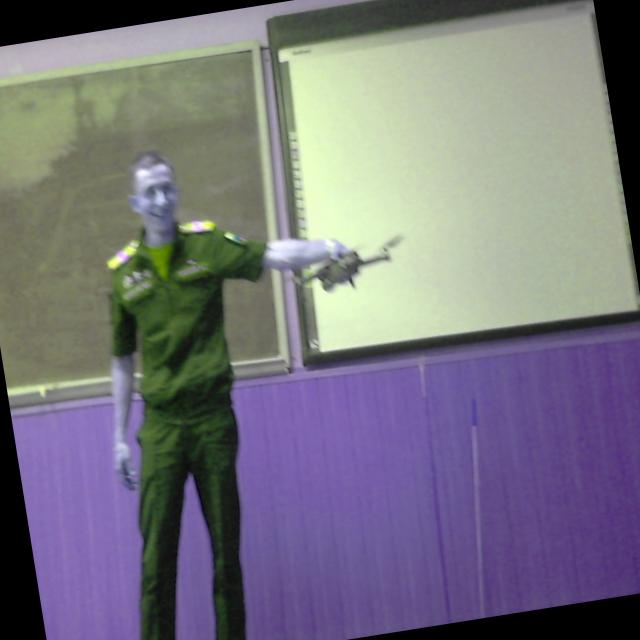drone: (278, 205, 423, 306)
